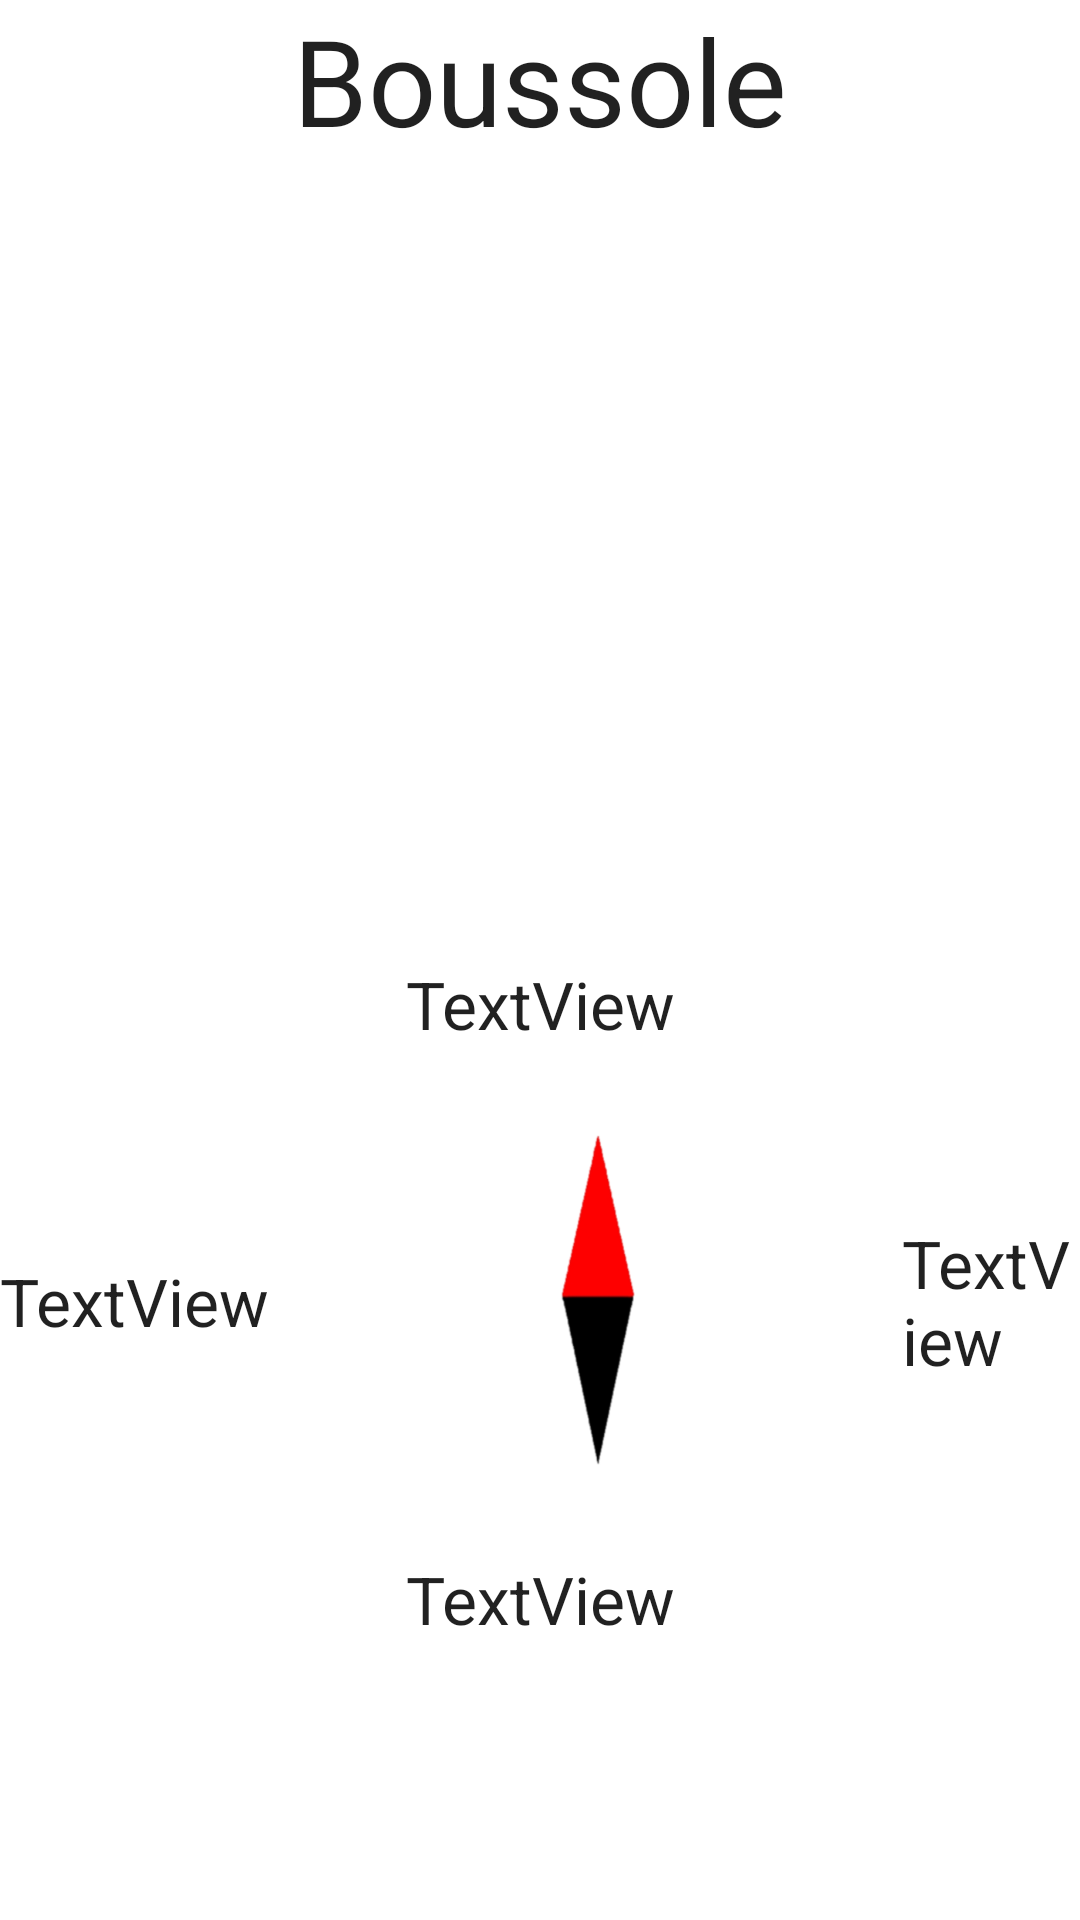

Named icons in this screenshot (1080px x 1920px) and their centers, (x=x, y=y):
aiguilles: (x=598, y=1300)
